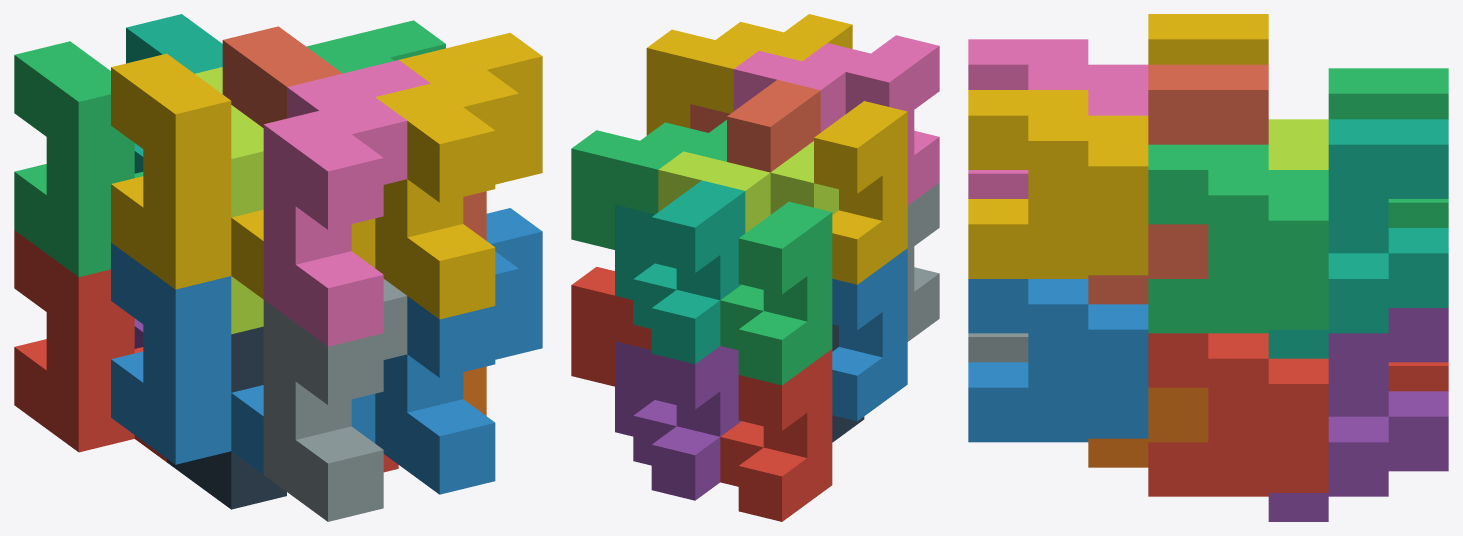
Rendered from tiling.obj.
The picture shows the model from 3 angles, left to right: view 1: azimuth 30°, elevation 25°; view 2: azimuth 150°, elevation 25°; view 3: azimuth 270°, elevation 25°; orthographic projection. The views are drawn at different scales.
Visible parts, largest first — view 1: copy_2_domain_8, copy_2_domain_4, copy_1_domain_4, copy_2_domain_6, copy_1_domain_2, copy_2_domain_2, copy_1_domain_3, copy_1_domain_1, copy_1_domain_8, copy_2_domain_1, copy_2_domain_3, copy_1_domain_7 (+2 smaller); view 2: copy_1_domain_7, copy_1_domain_3, copy_1_domain_5, copy_1_domain_1, copy_1_domain_4, copy_2_domain_4, copy_2_domain_8, copy_1_domain_2, copy_2_domain_7, copy_1_domain_8, copy_2_domain_3, copy_2_domain_5 (+2 smaller); view 3: copy_2_domain_8, copy_2_domain_7, copy_2_domain_6, copy_2_domain_5, copy_1_domain_7, copy_1_domain_5, copy_1_domain_8, copy_2_domain_4, copy_1_domain_3, copy_1_domain_4, copy_1_domain_6, copy_2_domain_3 (+2 smaller).
Boxes of the visible parts, x1,y1,x2,y2 form: copy_2_domain_8: [375, 32, 542, 319]; copy_2_domain_4: [263, 60, 430, 346]; copy_1_domain_4: [111, 53, 375, 299]; copy_2_domain_6: [375, 208, 542, 494]; copy_1_domain_2: [111, 242, 375, 474]; copy_2_domain_2: [263, 279, 407, 521]; copy_1_domain_3: [14, 41, 143, 276]; copy_1_domain_1: [14, 230, 166, 462]; copy_1_domain_8: [222, 26, 486, 240]; copy_2_domain_1: [167, 326, 286, 509]; copy_2_domain_3: [195, 67, 263, 334]; copy_1_domain_7: [126, 14, 222, 173]; copy_1_domain_7: [615, 180, 745, 363]; copy_1_domain_3: [720, 201, 832, 385]; copy_1_domain_5: [615, 341, 741, 500]; copy_1_domain_1: [720, 349, 832, 521]; copy_1_domain_4: [814, 101, 907, 284]; copy_2_domain_4: [733, 35, 939, 205]; copy_2_domain_8: [646, 14, 852, 135]; copy_1_domain_2: [832, 248, 907, 421]; copy_2_domain_7: [571, 120, 726, 249]; copy_1_domain_8: [690, 79, 820, 172]; copy_2_domain_3: [658, 141, 838, 232]; copy_2_domain_5: [571, 266, 651, 386]; copy_2_domain_8: [968, 90, 1148, 278]; copy_2_domain_7: [1148, 144, 1328, 333]; copy_2_domain_6: [968, 279, 1148, 442]; copy_2_domain_5: [1148, 333, 1328, 496]; copy_1_domain_7: [1268, 119, 1448, 358]; copy_1_domain_5: [1268, 308, 1448, 521]; copy_1_domain_8: [1088, 64, 1268, 304]; copy_2_domain_4: [968, 39, 1148, 198]; copy_1_domain_3: [1328, 68, 1448, 227]; copy_1_domain_4: [1148, 14, 1268, 64]; copy_1_domain_6: [1088, 387, 1208, 467]; copy_2_domain_3: [1268, 119, 1328, 169].
Size of the model in its own units: 6 by 7 by 8.
